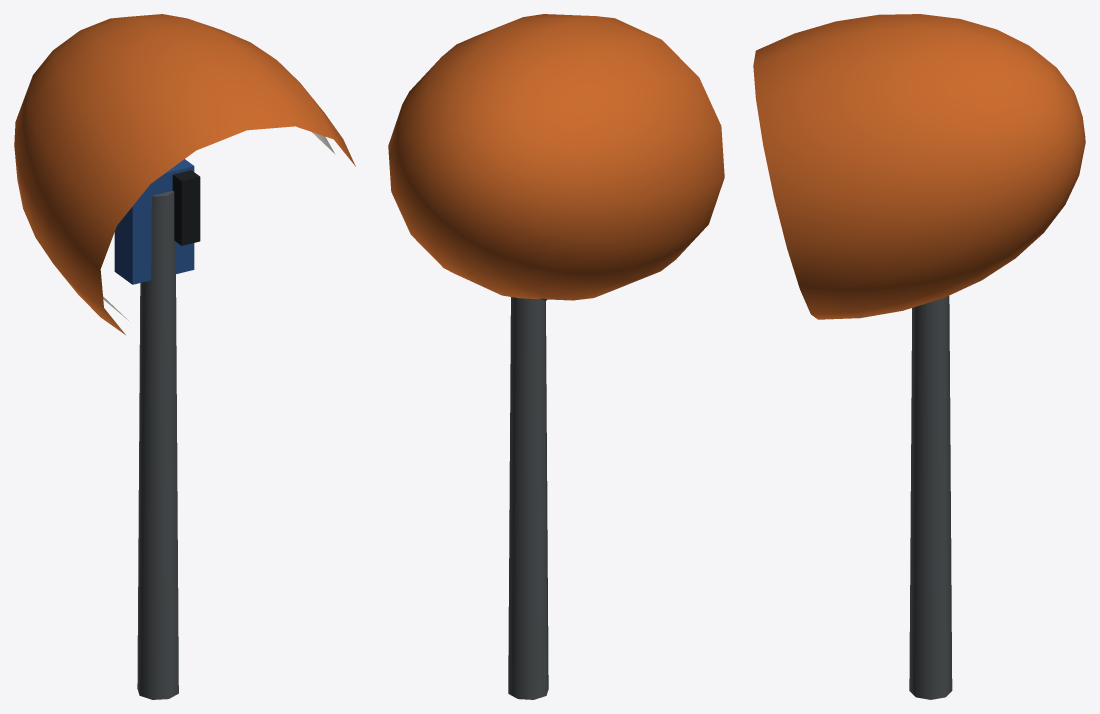
The model's file is 0872-Street-furniture-phone.glb.
The picture shows the model from 3 angles, left to right: view 1: azimuth 30°, elevation 25°; view 2: azimuth 150°, elevation 25°; view 3: azimuth 270°, elevation 25°; orthographic projection. The views are drawn at different scales.
Visible parts, largest first — view 1: Street furniture/phone; view 2: Street furniture/phone; view 3: Street furniture/phone.
Part boxes in pixels (<box>): Street furniture/phone: <box>14,14,355,699</box>; Street furniture/phone: <box>388,14,724,699</box>; Street furniture/phone: <box>753,14,1085,699</box>.
Size of the model in its own units: 0.8999 by 2.05 by 0.931.
